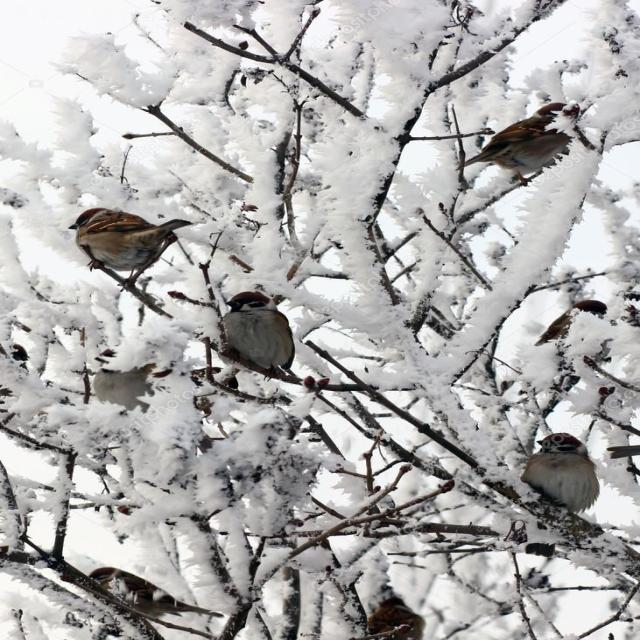bird: (514, 425, 614, 544), (462, 100, 593, 178), (201, 289, 306, 384), (70, 206, 186, 275), (87, 564, 229, 620), (360, 595, 435, 638)
